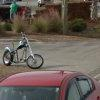Bicycle: (2, 28, 45, 72)
